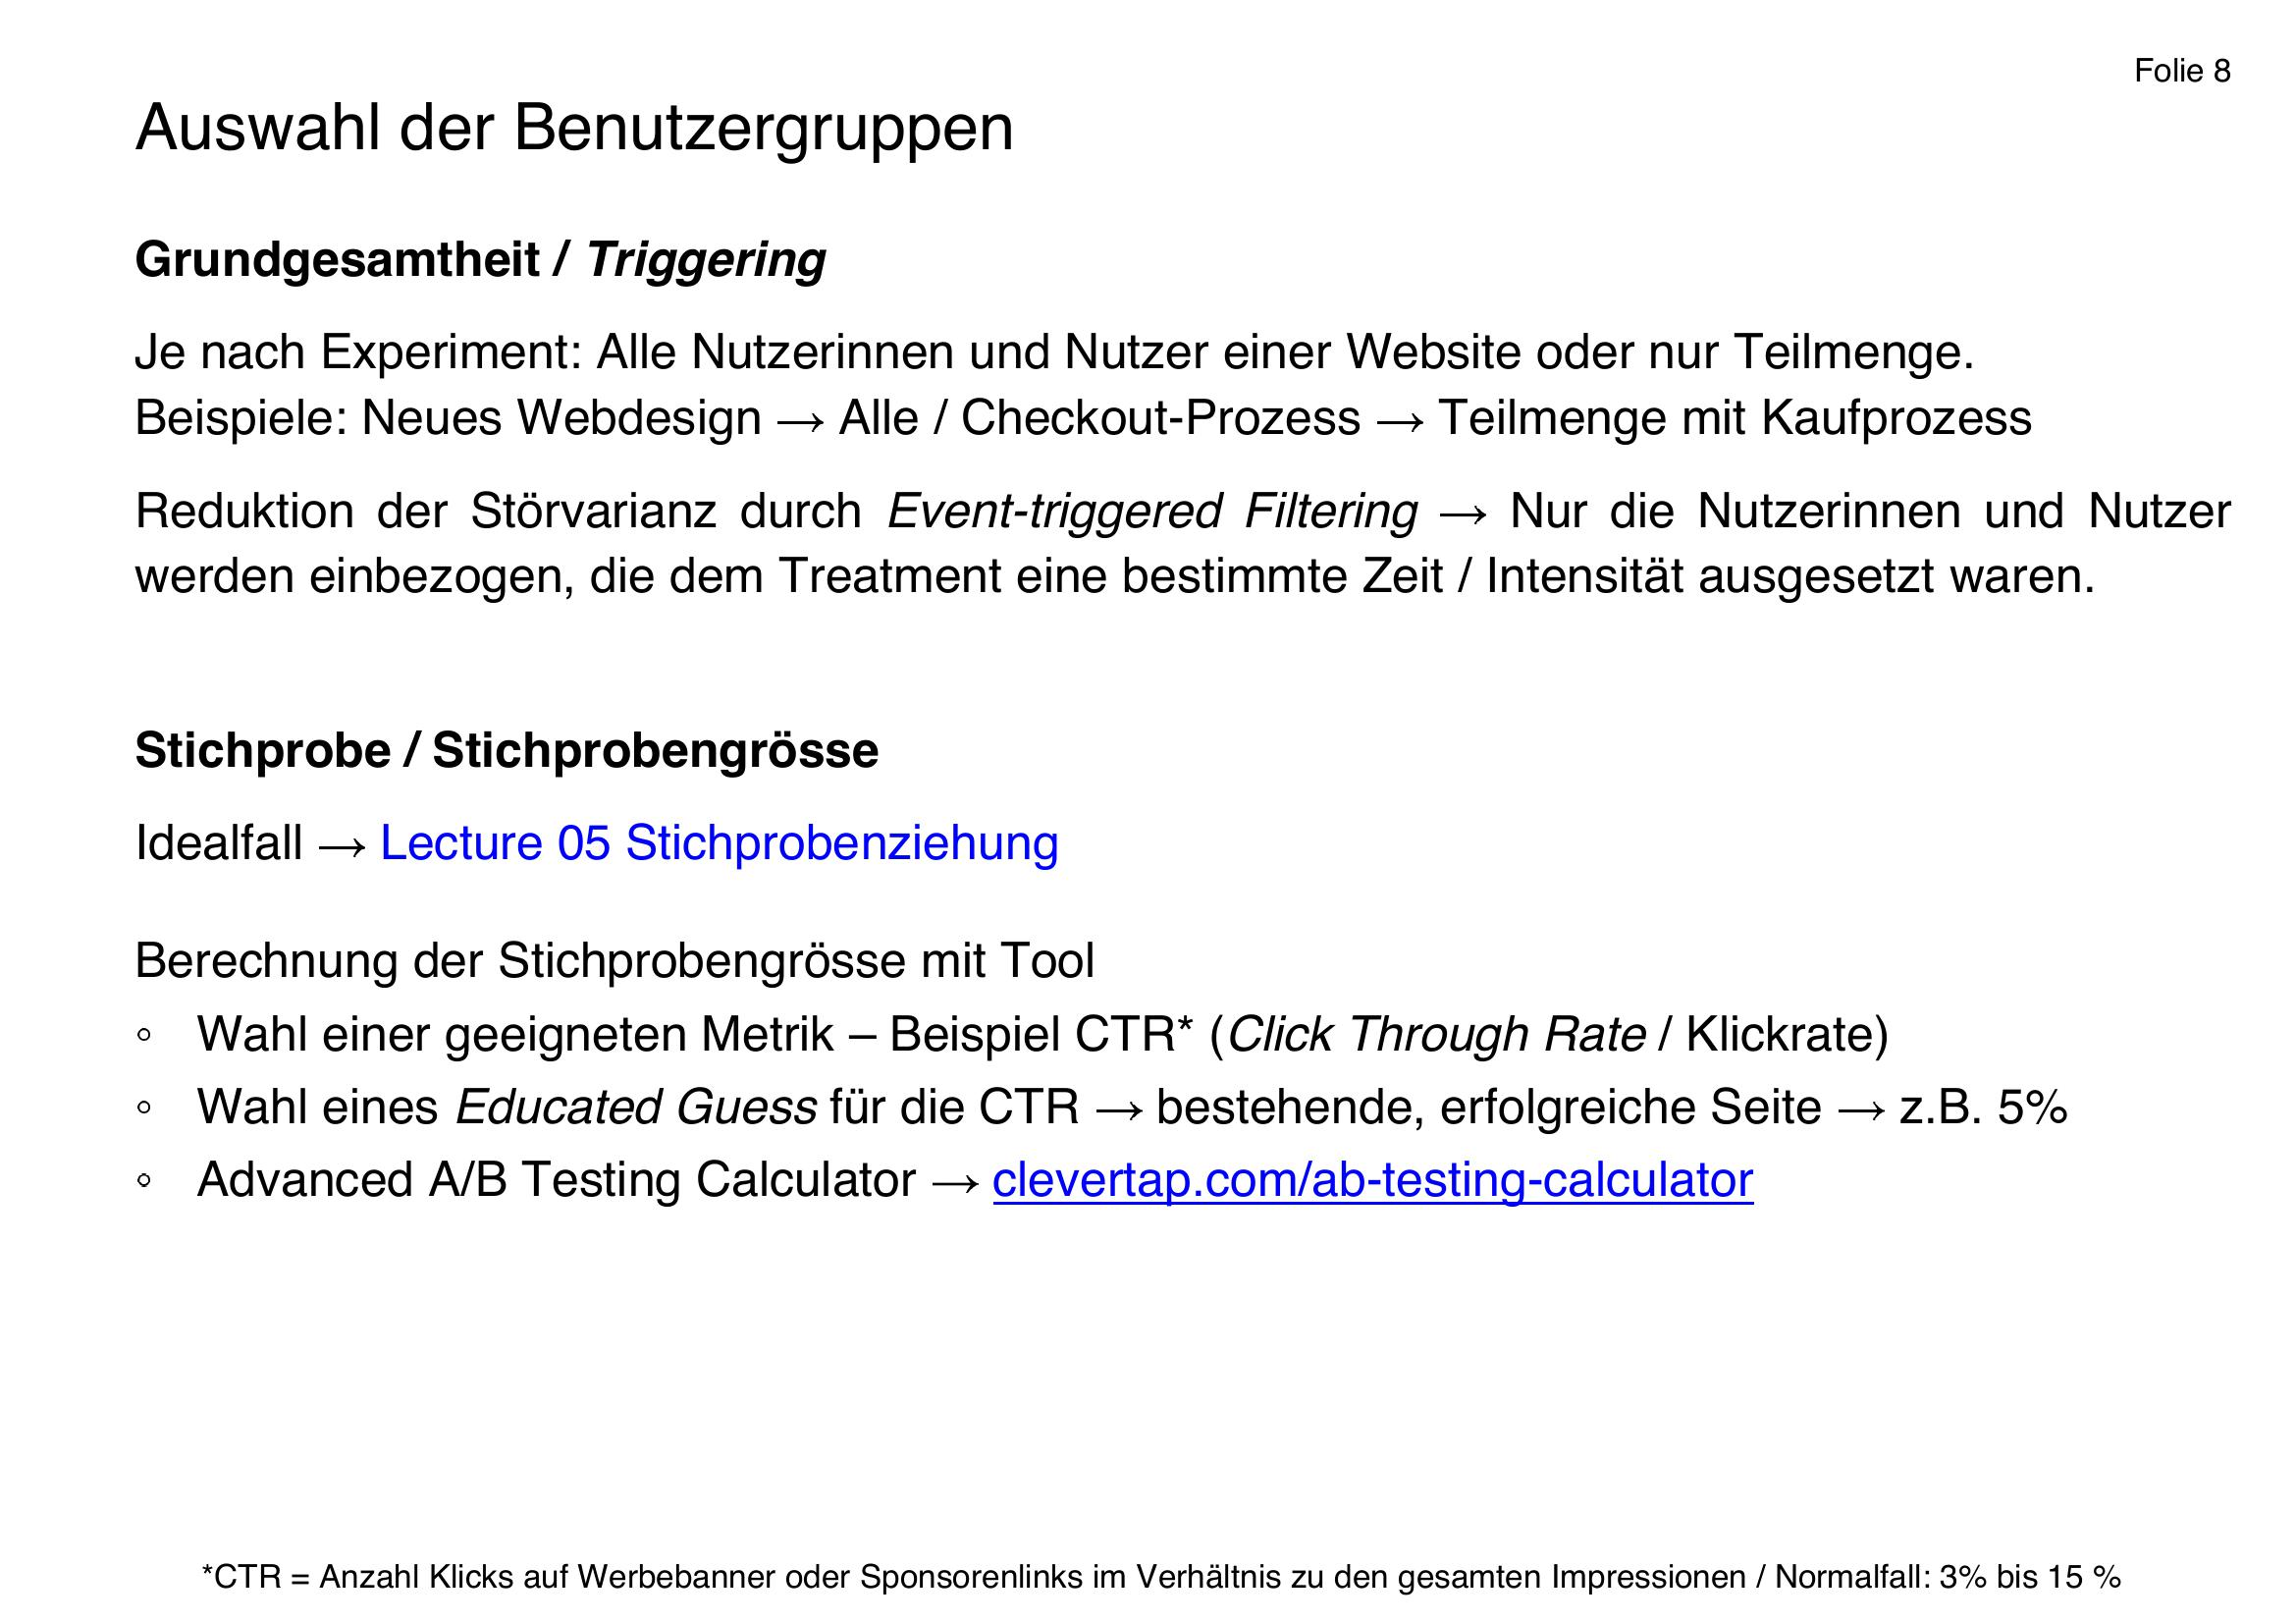Title: (126, 98, 1053, 174)
